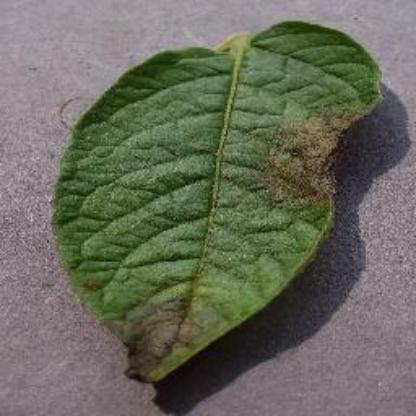Late-Blight: (52, 18, 390, 382)
